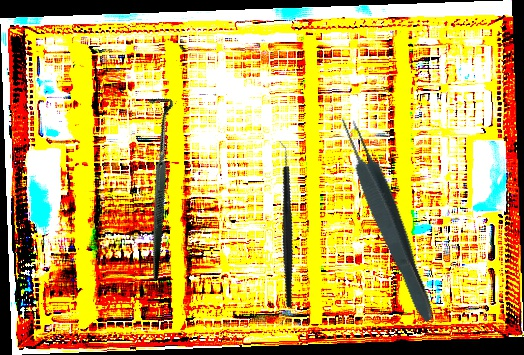Chopper: (225, 139, 343, 309)
Hook Surgical: (70, 89, 241, 282)
Tissue Forceps: (333, 111, 443, 326)
